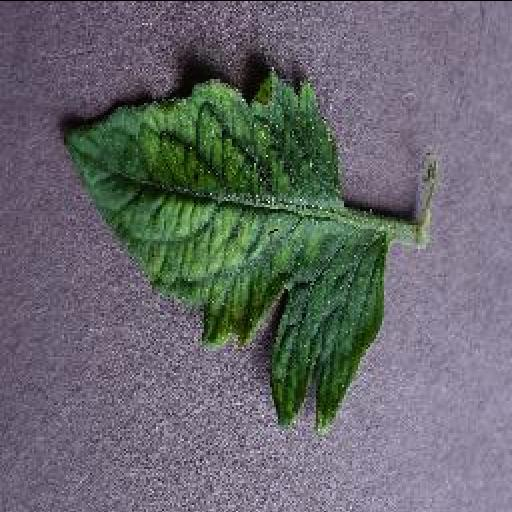disease_tomato: (57, 67, 391, 433)
